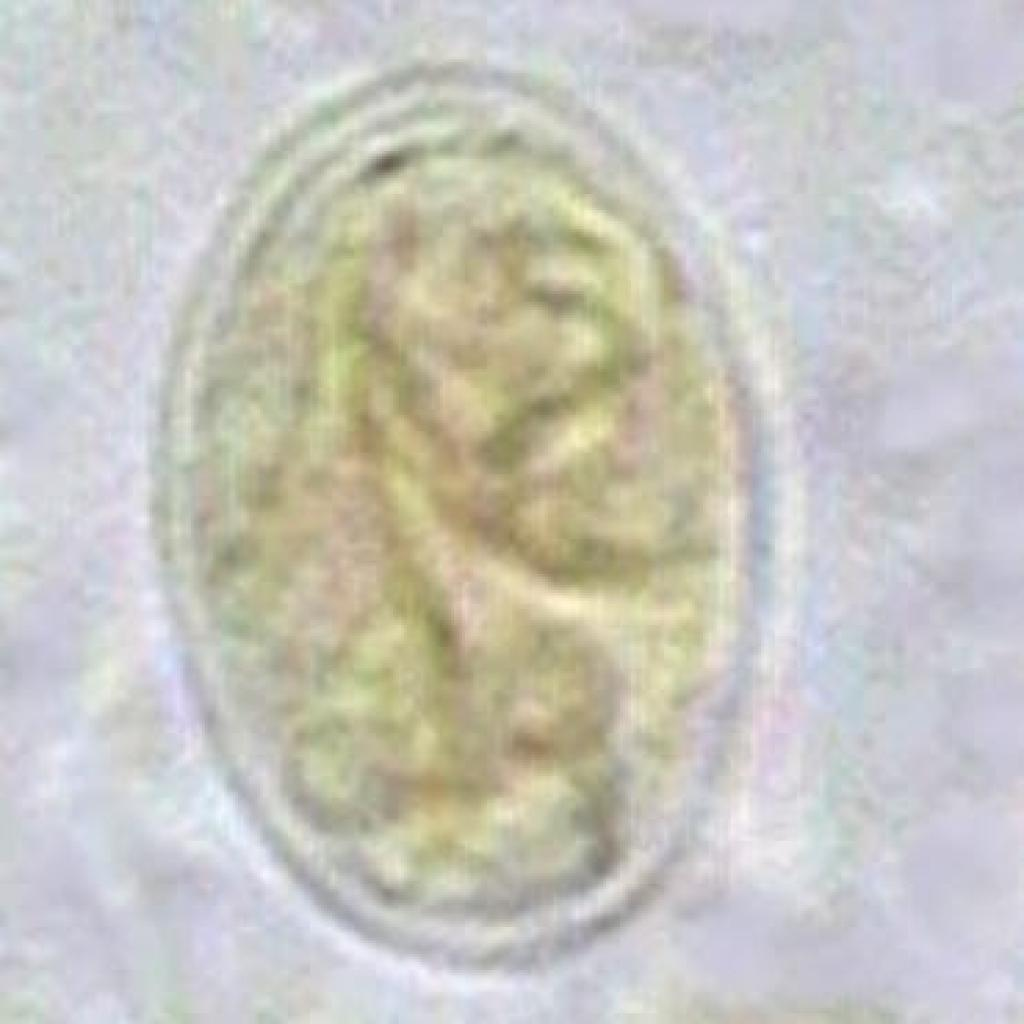Giardia: (130, 40, 800, 986)
